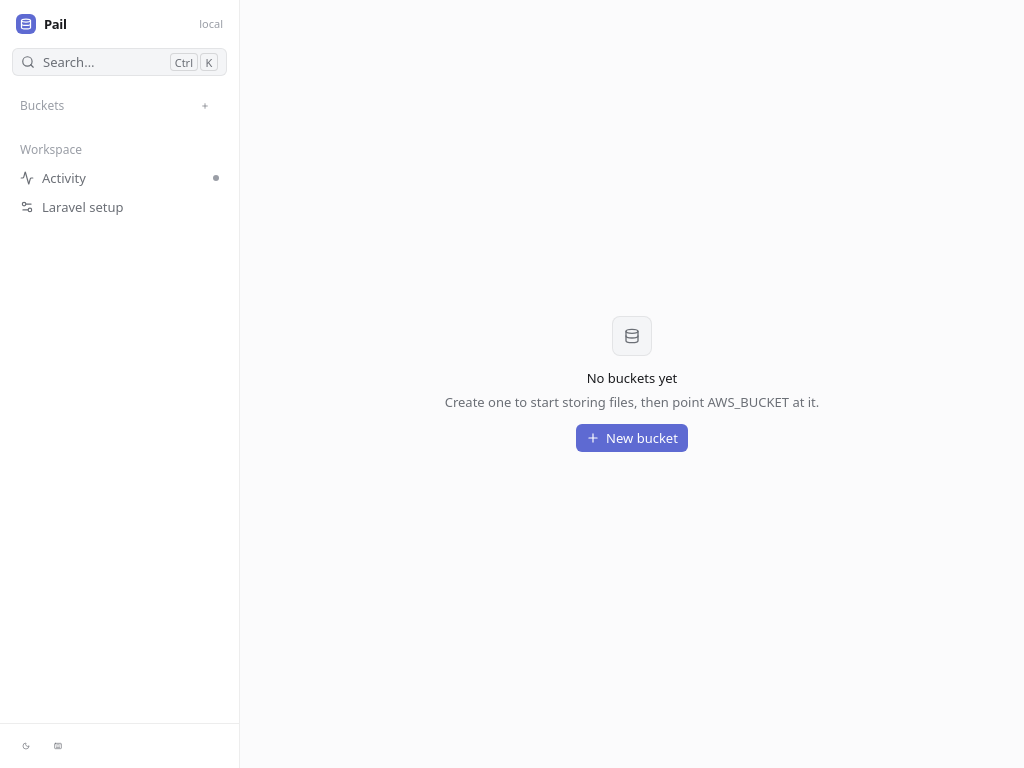
it: Home › offers to create a bucket when there are none
The width and height of the screenshot is (1024, 768).
Click the button named "New bucket".
click(205, 106)  # box [191,92,219,120]
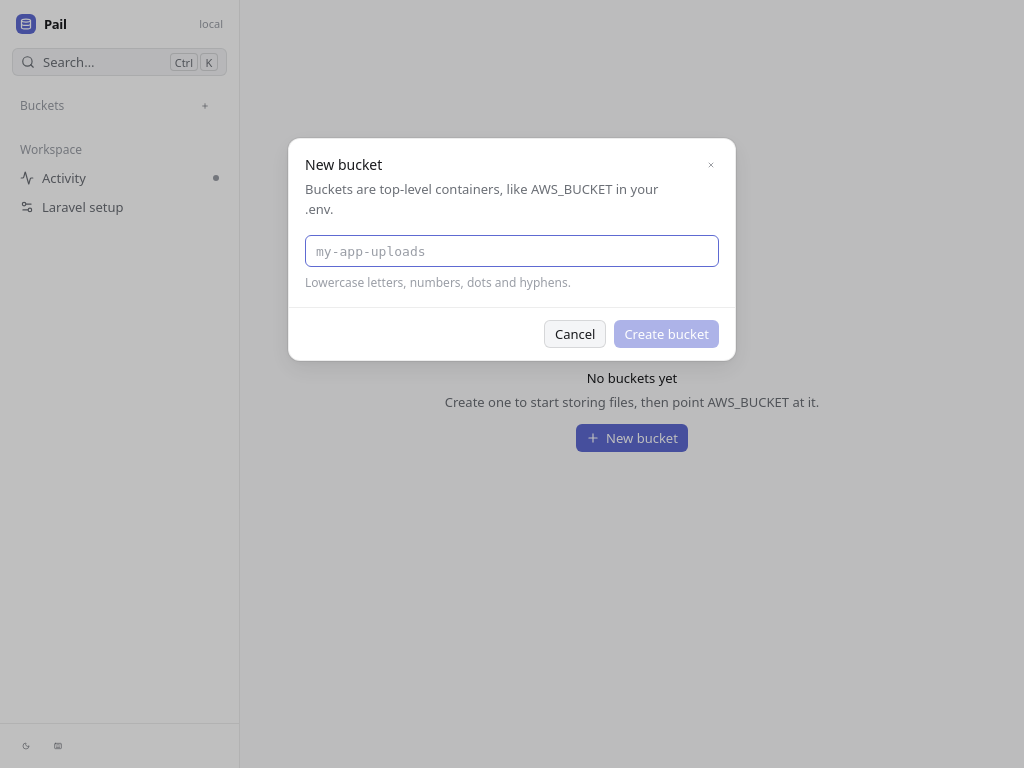
Expected: the dialog "New bucket" is shown, [288,138,736,361]
